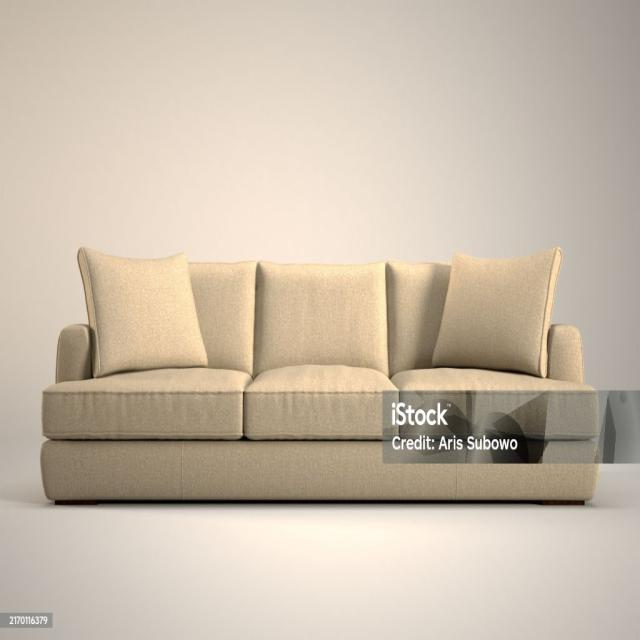back_cushion: (78, 248, 561, 376)
base: (41, 440, 596, 502)
left_arm: (548, 325, 583, 382)
right_arm: (56, 324, 91, 382)
seat_cushion: (43, 365, 597, 439)
stallion-sofa1: (41, 249, 596, 503)
